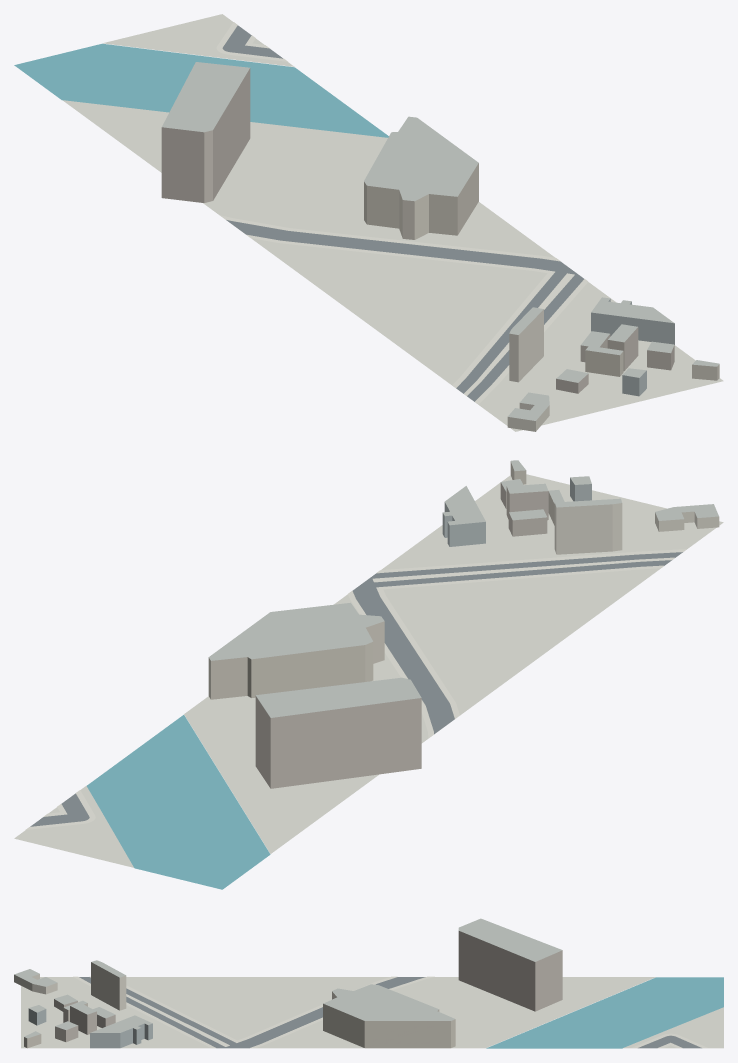
The picture shows the model from 3 angles, top to bottom: view 1: azimuth 30°, elevation 25°; view 2: azimuth 150°, elevation 25°; view 3: azimuth 270°, elevation 25°; orthographic projection. The views are drawn at different scales.
Visible parts, largest first — view 1: city; view 2: city; view 3: city.
Part boxes in pixels (box(x1,y1,x2,y2)): city: box(14, 14, 723, 431); city: box(14, 460, 723, 889); city: box(14, 918, 723, 1048).
Size of the model in its own units: 135 by 39.18 by 505.
